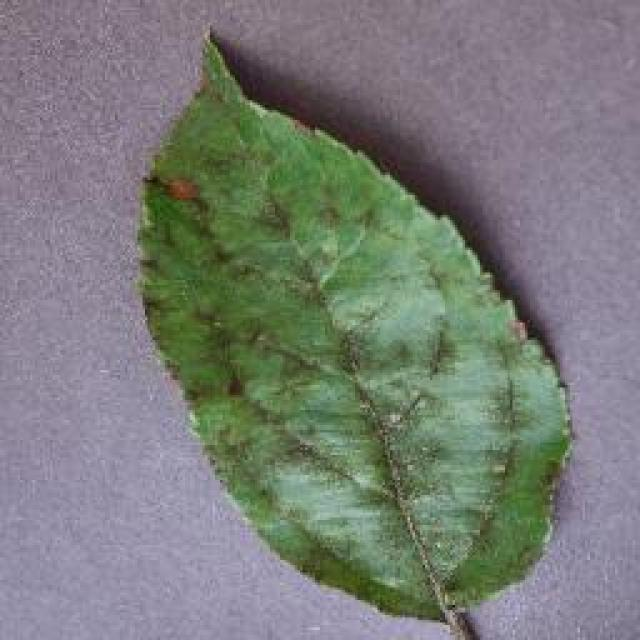App_scab: (204, 306, 456, 512), (154, 156, 251, 266), (265, 189, 359, 300)
